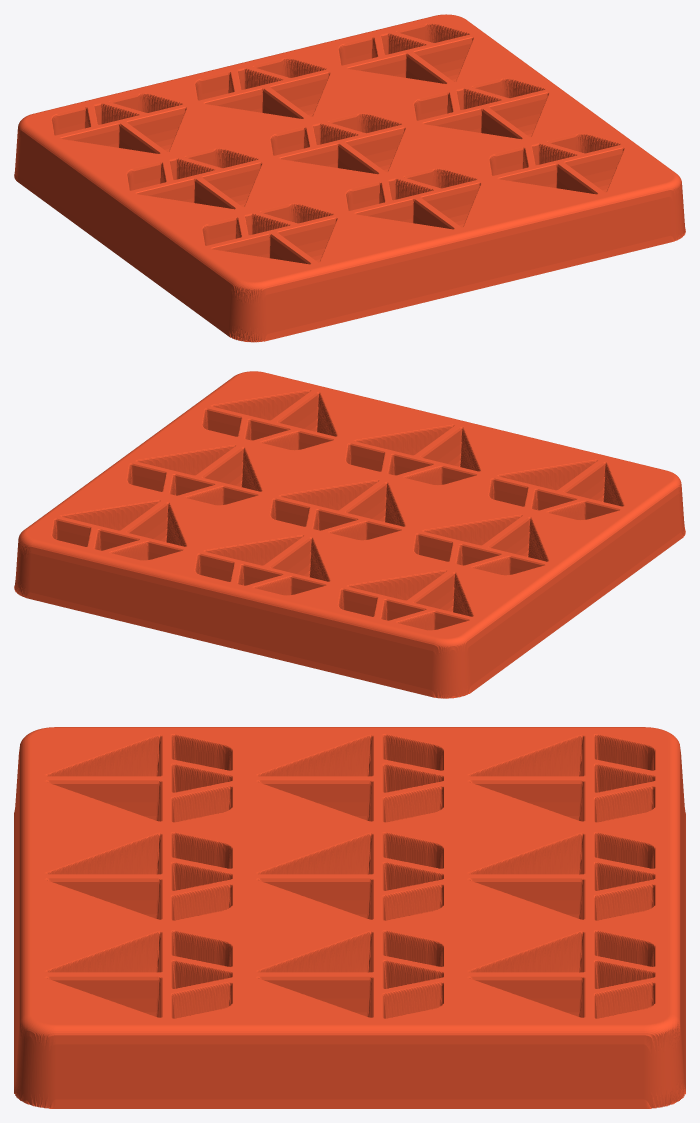
Rendered from mold.glb.
3 renders of one model, top to bottom at view 1: azimuth 30°, elevation 25°; view 2: azimuth 150°, elevation 25°; view 3: azimuth 270°, elevation 25°, orthographic. The views are drawn at different scales.
Visible parts, largest first — view 1: geometry_0; view 2: geometry_0; view 3: geometry_0.
Part boxes in pixels (x1=…): geometry_0: x1=14, y1=14, x2=685, y2=342; geometry_0: x1=14, y1=371, x2=685, y2=698; geometry_0: x1=14, y1=727, x2=685, y2=1108.
Size of the model in its own units: 0.1595 by 0.0185 by 0.1459.
